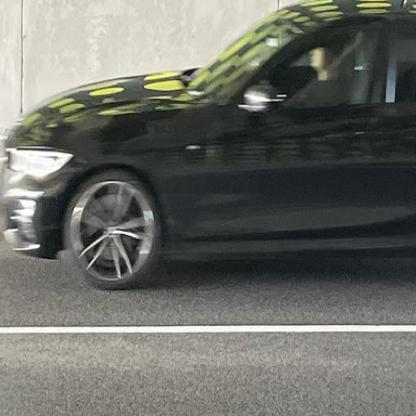Tire: (63, 169, 162, 290)
